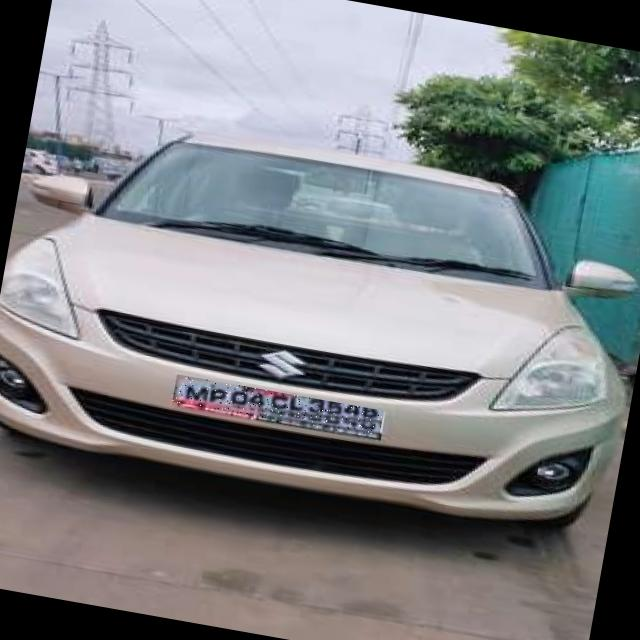Plate: (173, 375, 385, 439)
